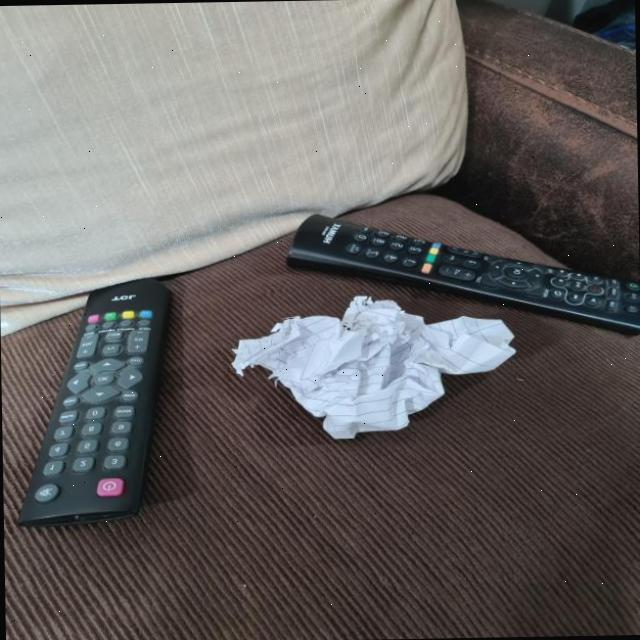trash: (217, 295, 517, 445)
